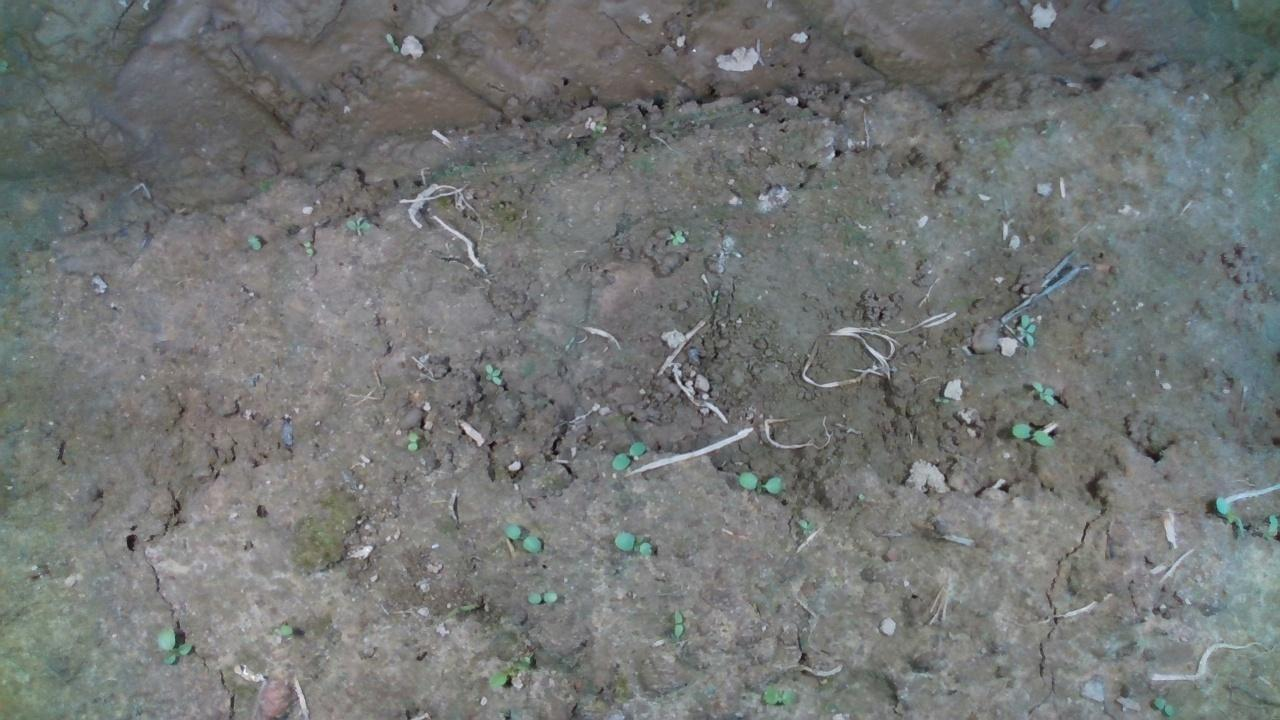weed: (150, 623, 199, 671), (500, 518, 548, 554), (612, 526, 657, 562), (1009, 417, 1056, 448), (734, 465, 782, 495), (1009, 311, 1043, 342), (608, 438, 638, 470), (523, 585, 564, 607), (665, 607, 689, 644), (342, 214, 378, 237), (1032, 377, 1055, 405), (404, 429, 426, 457), (484, 362, 507, 386), (665, 225, 686, 244)
